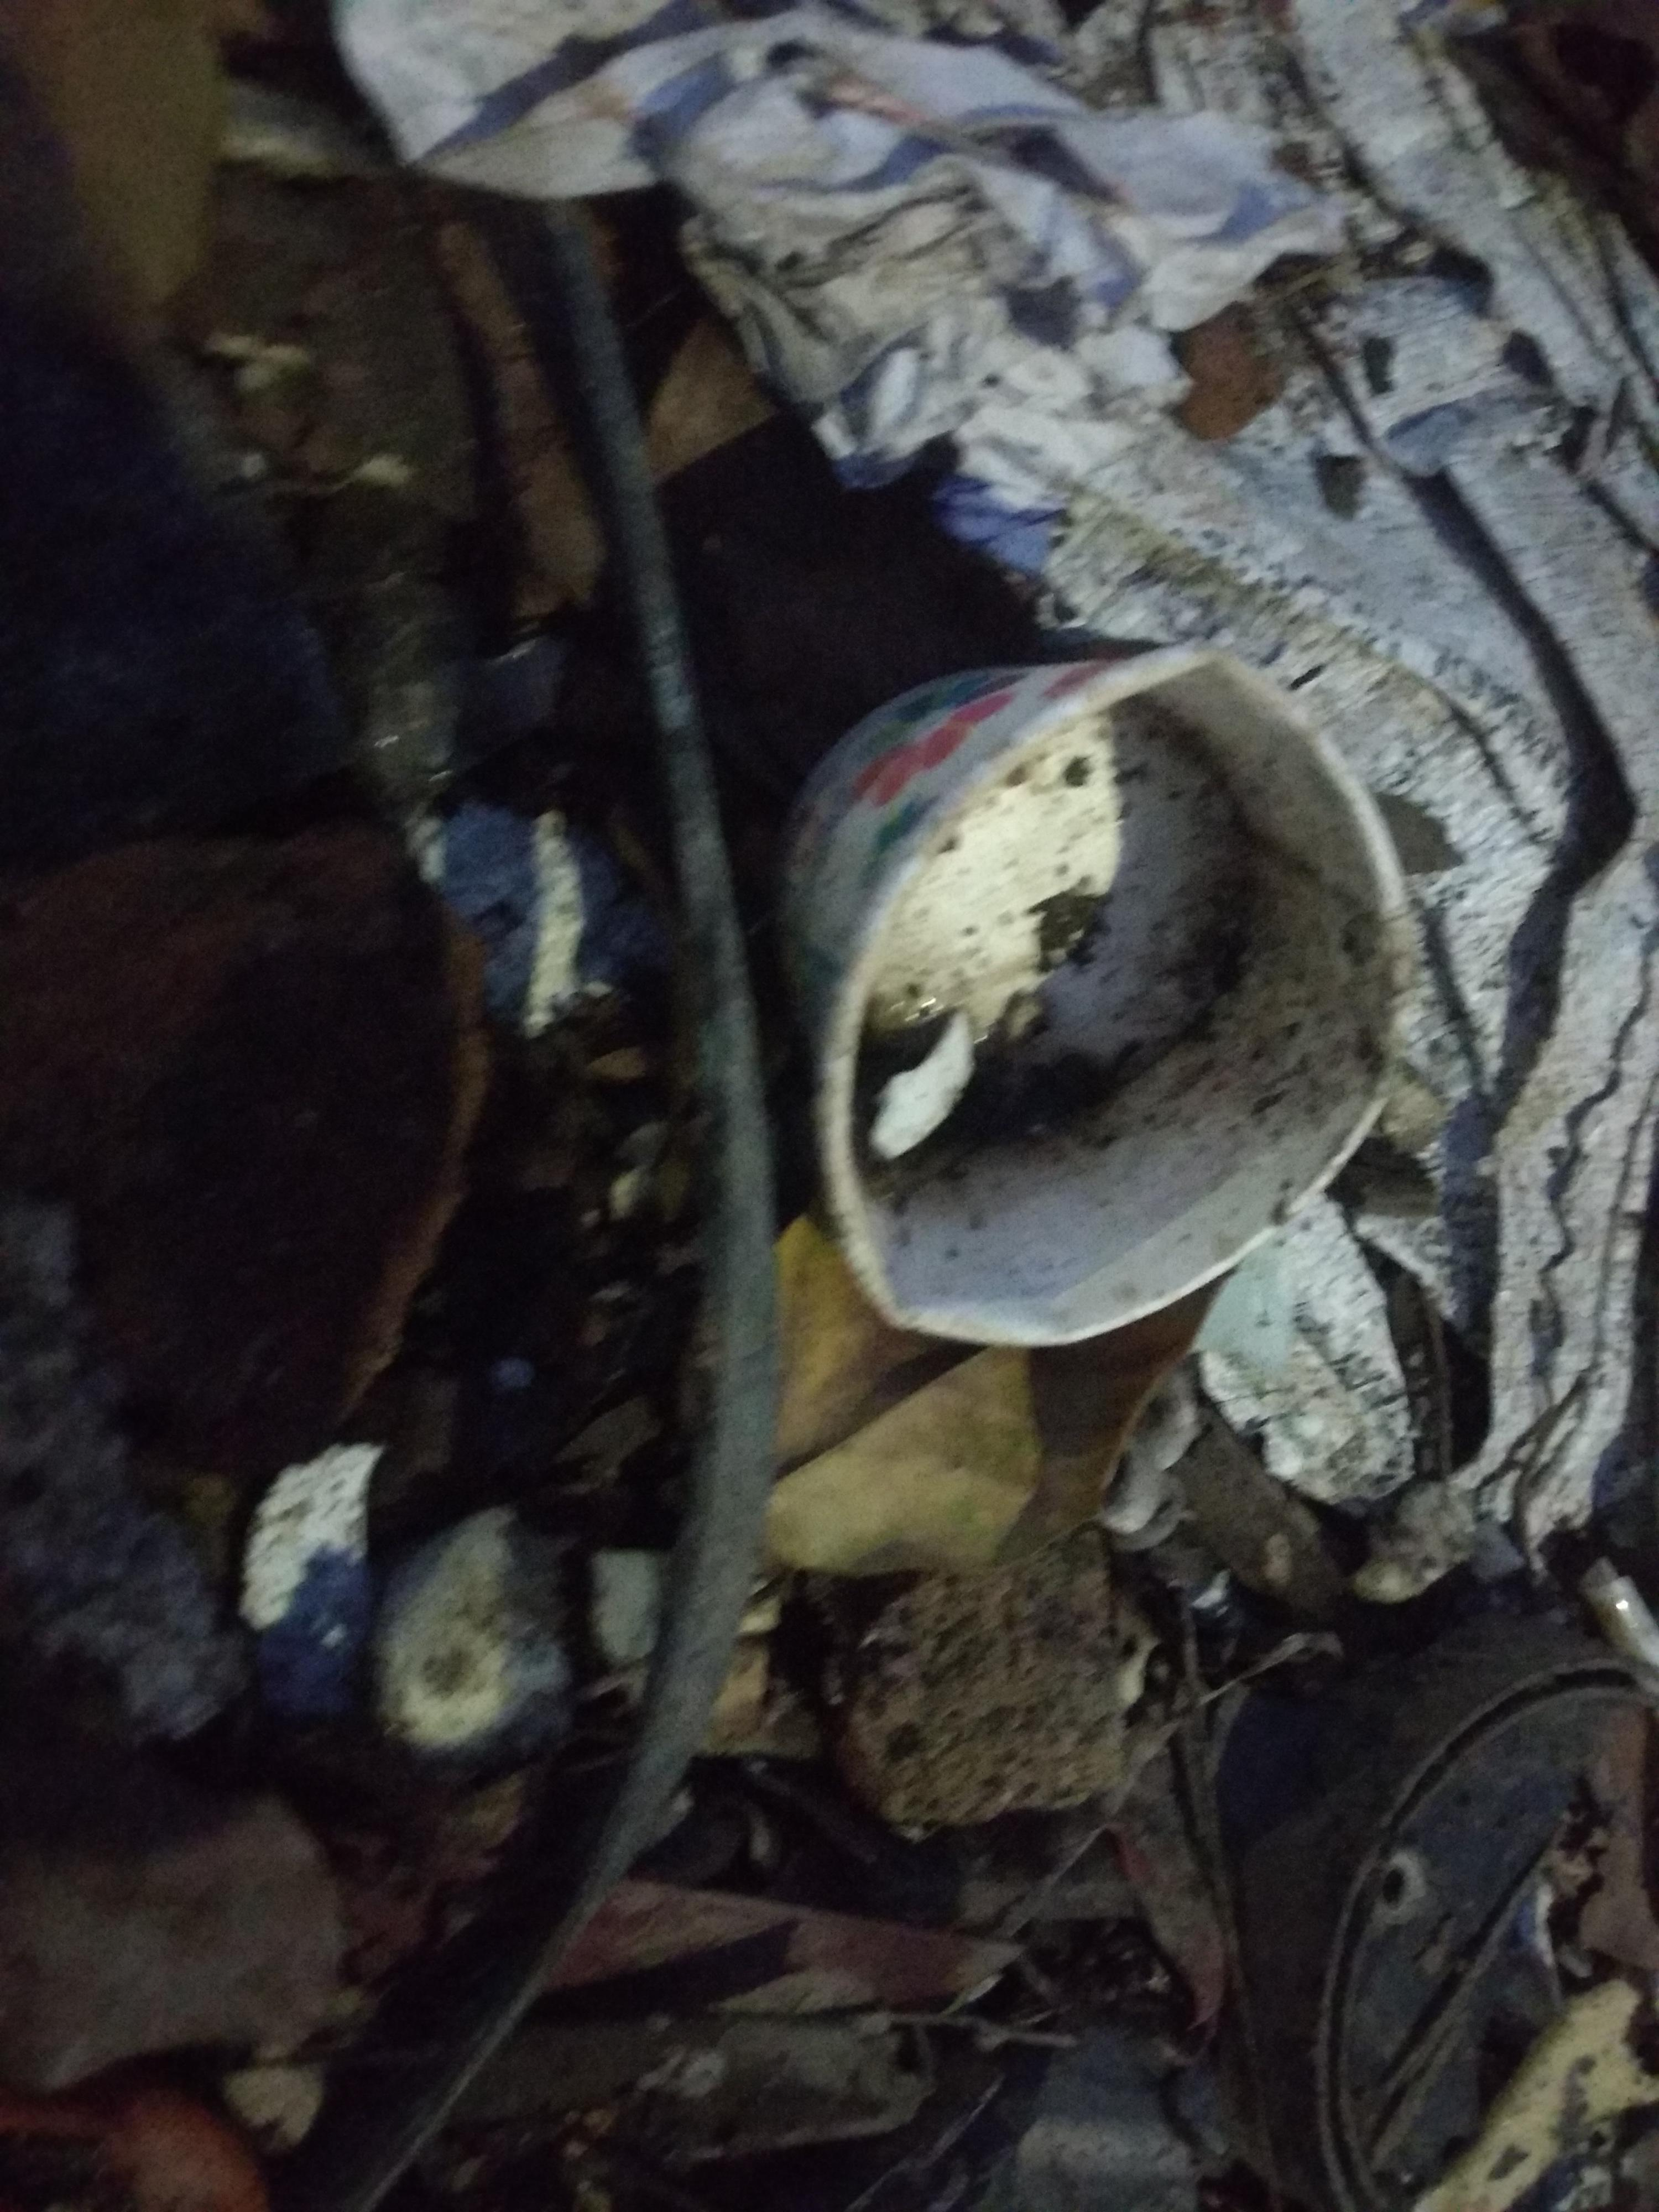trash: (263, 2, 1659, 1622)
